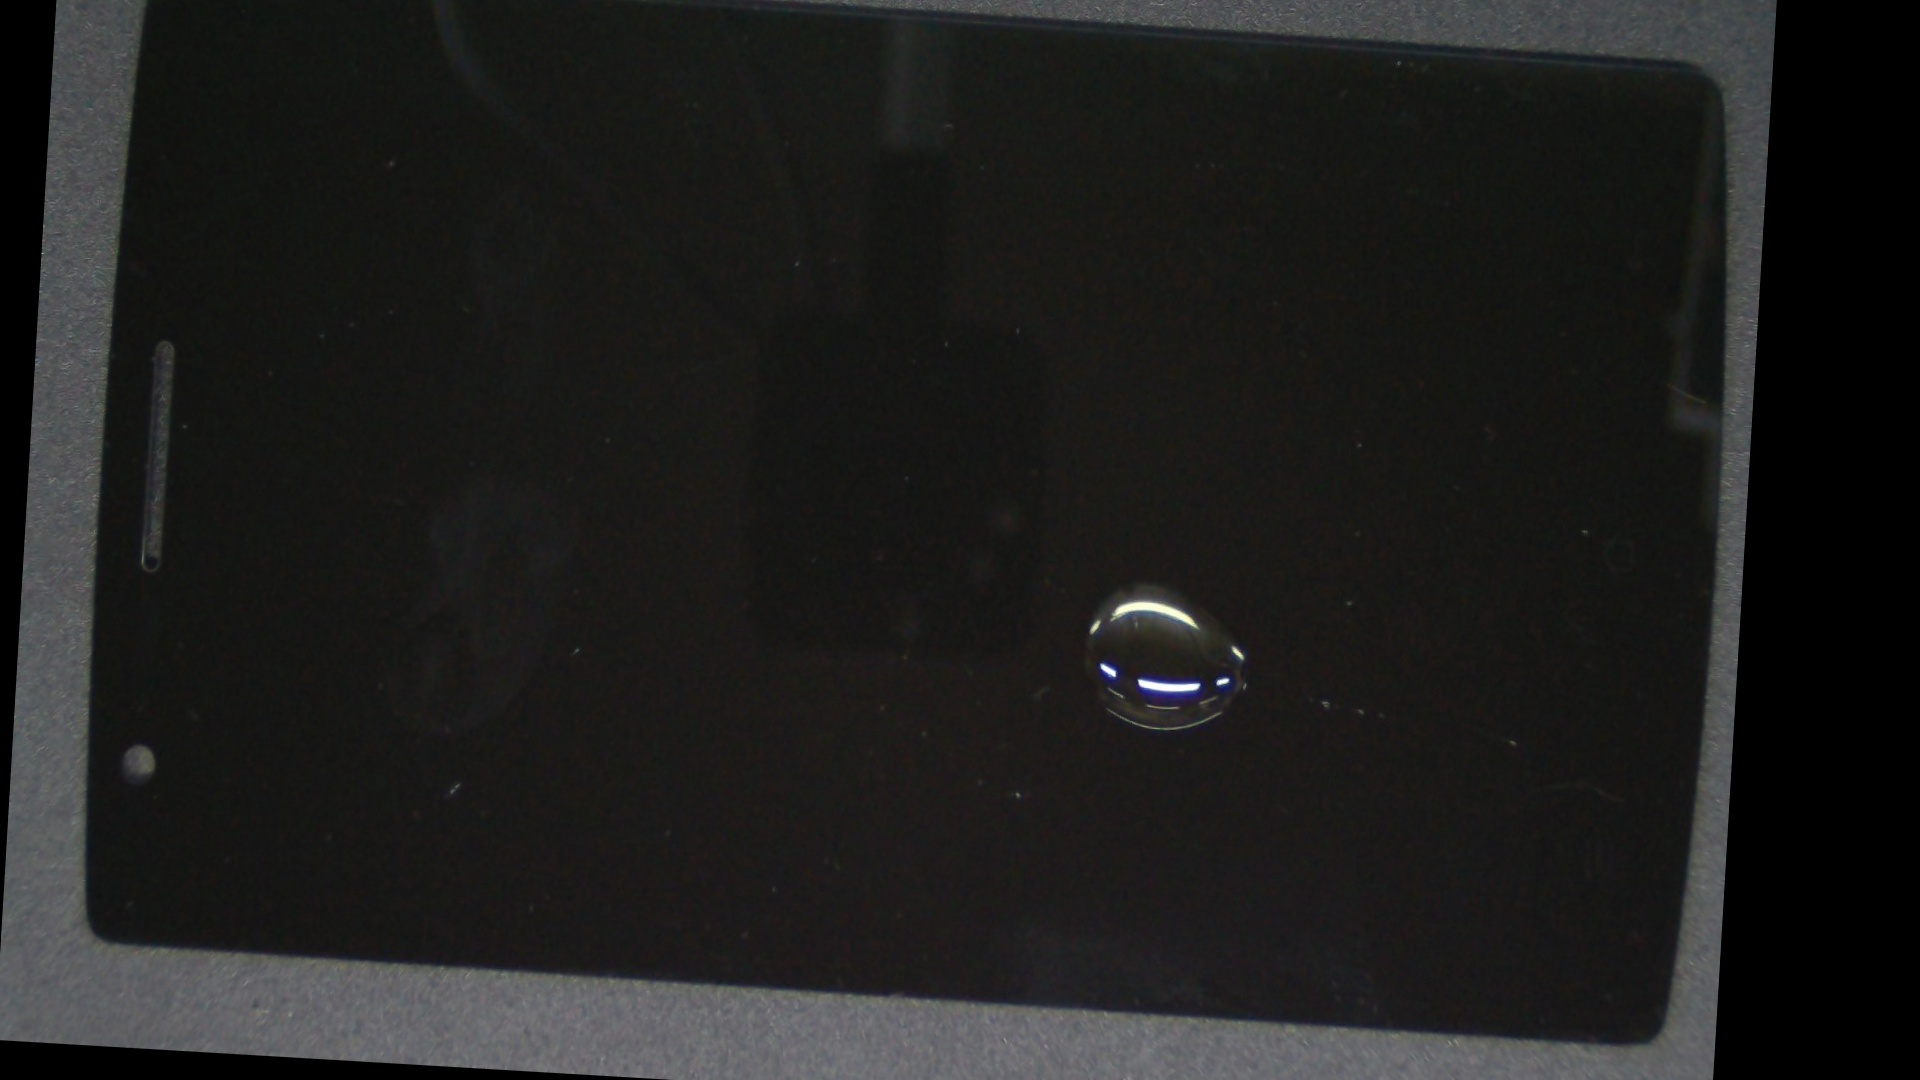oil: (566, 222, 1720, 942)
